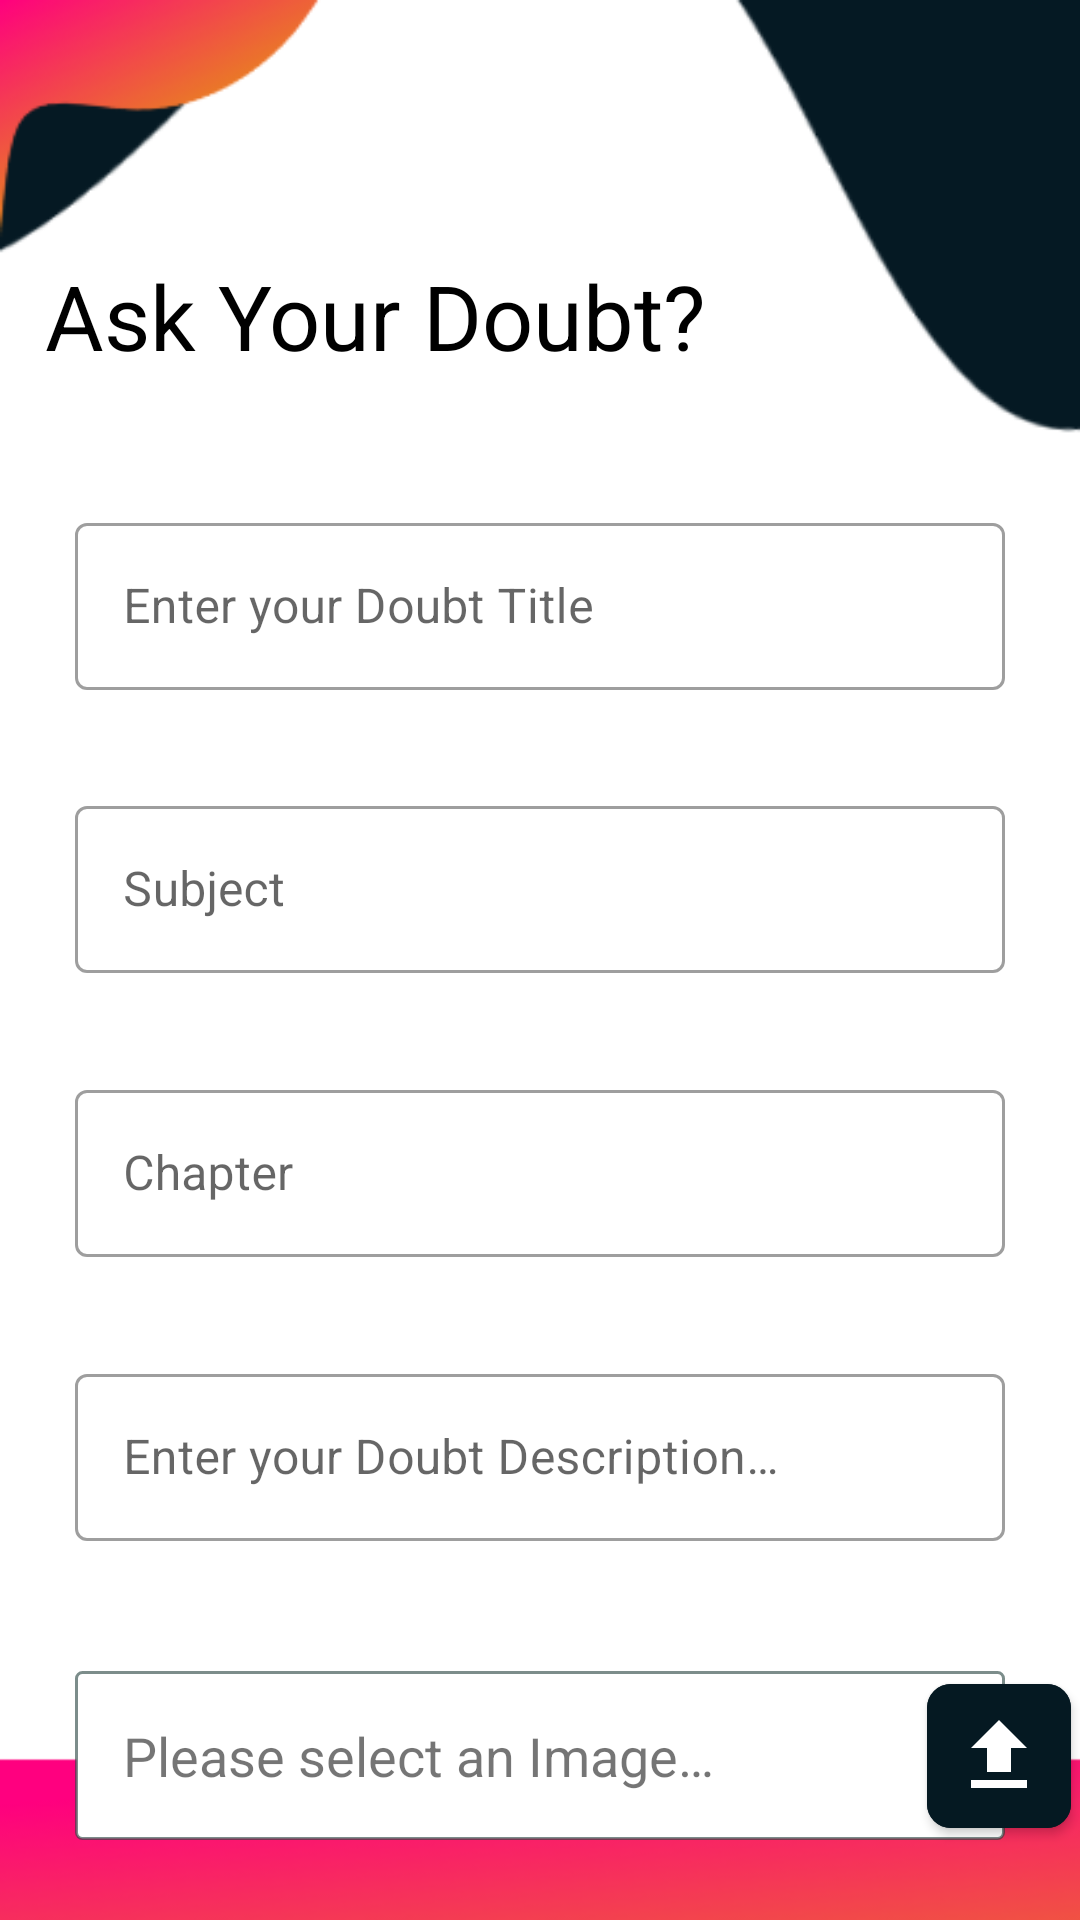

Point at icon controls on the screen. Image size 1080px×1920px, points as (x=x, y=y).
file upload: (x=999, y=1758)
